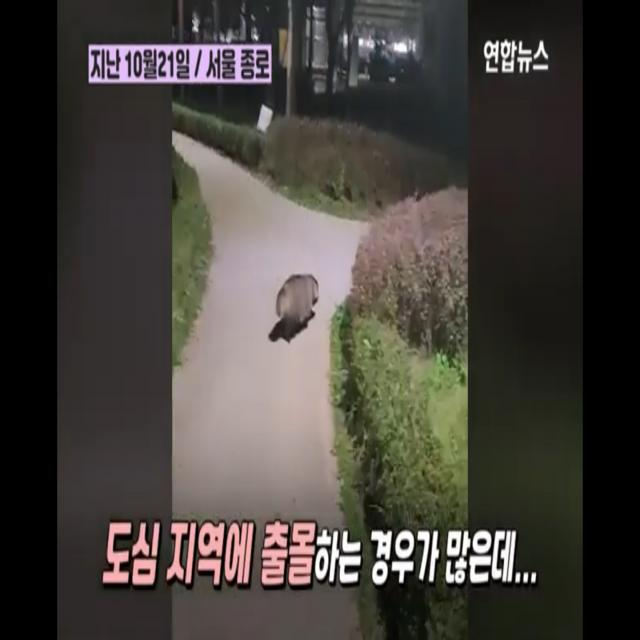racoon: (276, 258, 320, 346)
